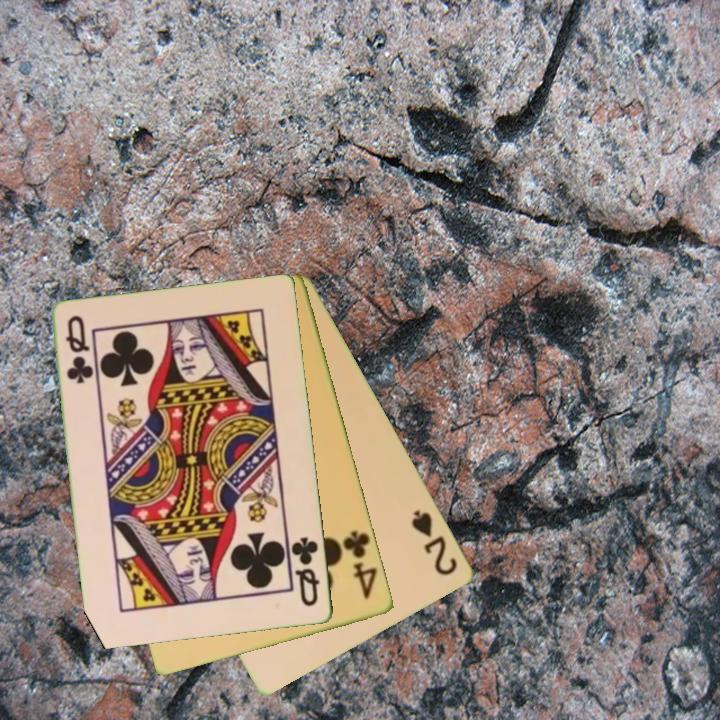2s: (408, 506, 461, 579)
4c: (340, 527, 381, 603)
Qc: (288, 533, 323, 610), (62, 312, 95, 387)
